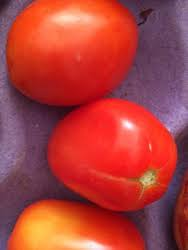tomato: (51, 102, 178, 211)
